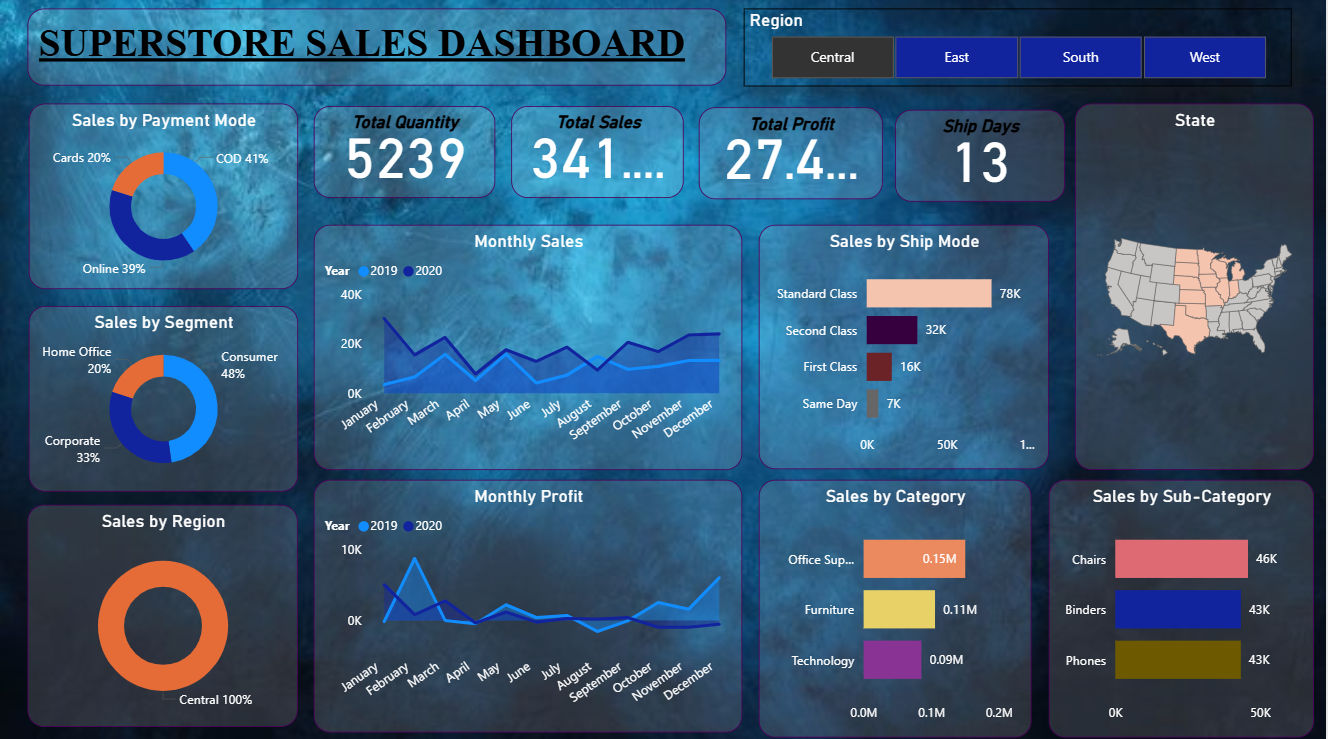

Layout of this report page (visuals, bound fields, positions):
{"tool":"powerbi","page":{"name":"Page 1","canvas":[1280,720],"ordinal":0},"visuals":[{"type":"clusteredBarChart","title":"Sales by Category","fields":{"Category":["SuperStore_Sales_Dataset.Category"],"Y":["Sum(SuperStore_Sales_Dataset.Sales)"]},"box":[732.3,466.9,263,248.5],"z":0},{"type":"clusteredBarChart","title":"Sales by Sub-Category","fields":{"Category":["SuperStore_Sales_Dataset.Sub-Category"],"Y":["Sum(SuperStore_Sales_Dataset.Sales)"]},"box":[1012.2,466.9,255.8,248.5],"z":1000},{"type":"clusteredBarChart","title":"Sales by Ship Mode","fields":{"Category":["SuperStore_Sales_Dataset.Ship Mode"],"Y":["Sum(SuperStore_Sales_Dataset.Sales)"]},"box":[732.4,221.4,280.1,236.4],"z":2000},{"type":"areaChart","title":"Monthly Sales ","fields":{"Y":["Sum(SuperStore_Sales_Dataset.Sales)"],"Category":["SuperStore_Sales_Dataset.Order Date.Variation.Date Hierarchy.Month"],"Series":["SuperStore_Sales_Dataset.Order Date.Variation.Date Hierarchy.Year"]},"box":[302.8,220.8,413.8,236.5],"z":3000},{"type":"areaChart","title":"Monthly Profit","fields":{"Series":["SuperStore_Sales_Dataset.Order Date.Variation.Date Hierarchy.Year"],"Y":["Sum(SuperStore_Sales_Dataset.Profit)"],"Category":["SuperStore_Sales_Dataset.Order Date.Variation.Date Hierarchy.Month","SuperStore_Sales_Dataset.Order Date.Variation.Date Hierarchy.Day"]},"box":[302.8,466.9,413.8,243.7],"z":4000},{"type":"donutChart","title":"Sales by Segment","fields":{"Category":["SuperStore_Sales_Dataset.Segment"],"Y":["Sum(SuperStore_Sales_Dataset.Sales)"]},"box":[28.3,298.9,259.8,179],"z":6000},{"type":"donutChart","title":"Sales by Region","fields":{"Category":["SuperStore_Sales_Dataset.Region"],"Y":["Sum(SuperStore_Sales_Dataset.Sales)"]},"box":[26.9,491.4,261.2,214.1],"z":7000},{"type":"donutChart","title":"Sales by Payment Mode","fields":{"Category":["SuperStore_Sales_Dataset.Payment Mode"],"Y":["Sum(SuperStore_Sales_Dataset.Sales)"]},"box":[28.3,103.7,259.8,179],"z":8000},{"type":"textbox","box":[26.5,12.1,674.4,74.8],"z":9000},{"type":"slicer","title":"Region","fields":{"Values":["SuperStore_Sales_Dataset.Region"]},"box":[717.3,12.3,528.8,75.1],"z":10000},{"type":"card","title":"Total Quantity","fields":{"Values":["Sum(SuperStore_Sales_Dataset.Quantity)"]},"box":[303.3,106.6,174.9,88.8],"z":11000},{"type":"card","title":"Ship Days","fields":{"Values":["Avg(SuperStore_Sales_Dataset.average days to order get deliverd)"]},"box":[863.5,109.3,164,88.8],"z":12000},{"type":"card","title":"Total Profit","fields":{"Values":["Sum(SuperStore_Sales_Dataset.Profit)"]},"box":[675,107.9,177.6,88.8],"z":13000},{"type":"card","title":"Total Sales","fields":{"Values":["Sum(SuperStore_Sales_Dataset.Sales)"]},"box":[493.3,106.6,166.7,88.8],"z":14000},{"type":"shapeMap","fields":{"Category":["SuperStore_Sales_Dataset.State"]},"box":[1037.5,103.8,230.4,353.5],"z":14001}]}

Visuals, with their boxes in screenshot pixels (x1, y1, x2, y2), scaled from the page's 1280x720 canvas onto the 1328x739 screenshot:
"Sales by Category" clusteredBarChart: 760 479 1033 734
"Sales by Sub-Category" clusteredBarChart: 1050 479 1316 734
"Sales by Ship Mode" clusteredBarChart: 760 227 1050 470
"Monthly Sales " areaChart: 314 227 743 469
"Monthly Profit" areaChart: 314 479 743 729
"Sales by Segment" donutChart: 29 307 299 491
"Sales by Region" donutChart: 28 504 299 724
"Sales by Payment Mode" donutChart: 29 106 299 290
textbox: 27 12 727 89
"Region" slicer: 744 13 1293 90
"Total Quantity" card: 315 109 496 201
"Ship Days" card: 896 112 1066 203
"Total Profit" card: 700 111 885 202
"Total Sales" card: 512 109 685 201
shapeMap - SuperStore_Sales_Dataset.State: 1076 107 1315 469
